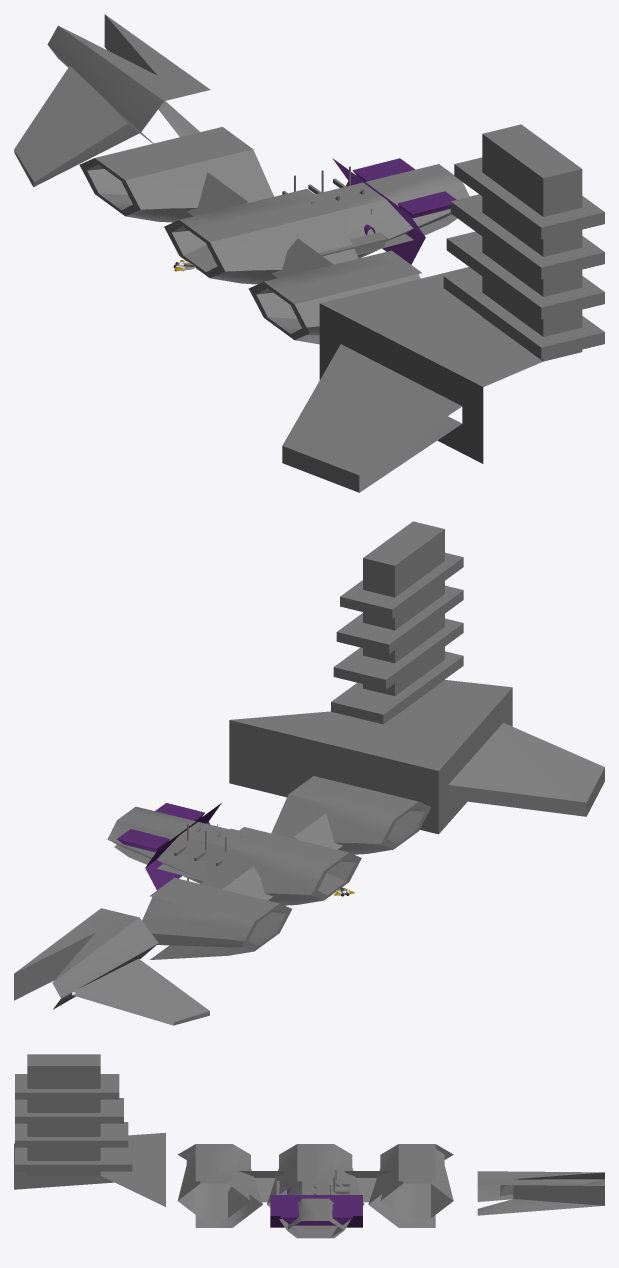
File: Alien_moederbord_Port.fbx
3 renders of one model, top to bottom at view 1: azimuth 30°, elevation 25°; view 2: azimuth 150°, elevation 25°; view 3: azimuth 270°, elevation 25°, orthographic. The views are drawn at different scales.
Visible parts, largest first — view 1: spaceship_1, Plane; view 2: spaceship_1, Plane; view 3: spaceship_1, Plane.
Boxes of the visible parts, left/top/right/bottom form: spaceship_1: left=14, top=14, right=604, bottom=492; Plane: left=332, top=158, right=456, bottom=264; spaceship_1: left=14, top=521, right=604, bottom=1025; Plane: left=117, top=803, right=221, bottom=890; spaceship_1: left=14, top=1054, right=604, bottom=1238; Plane: left=270, top=1195, right=362, bottom=1227.
Bounding box in the file's own units: 11502 × 8451 × 26970.
20 materials, 2 textured.
